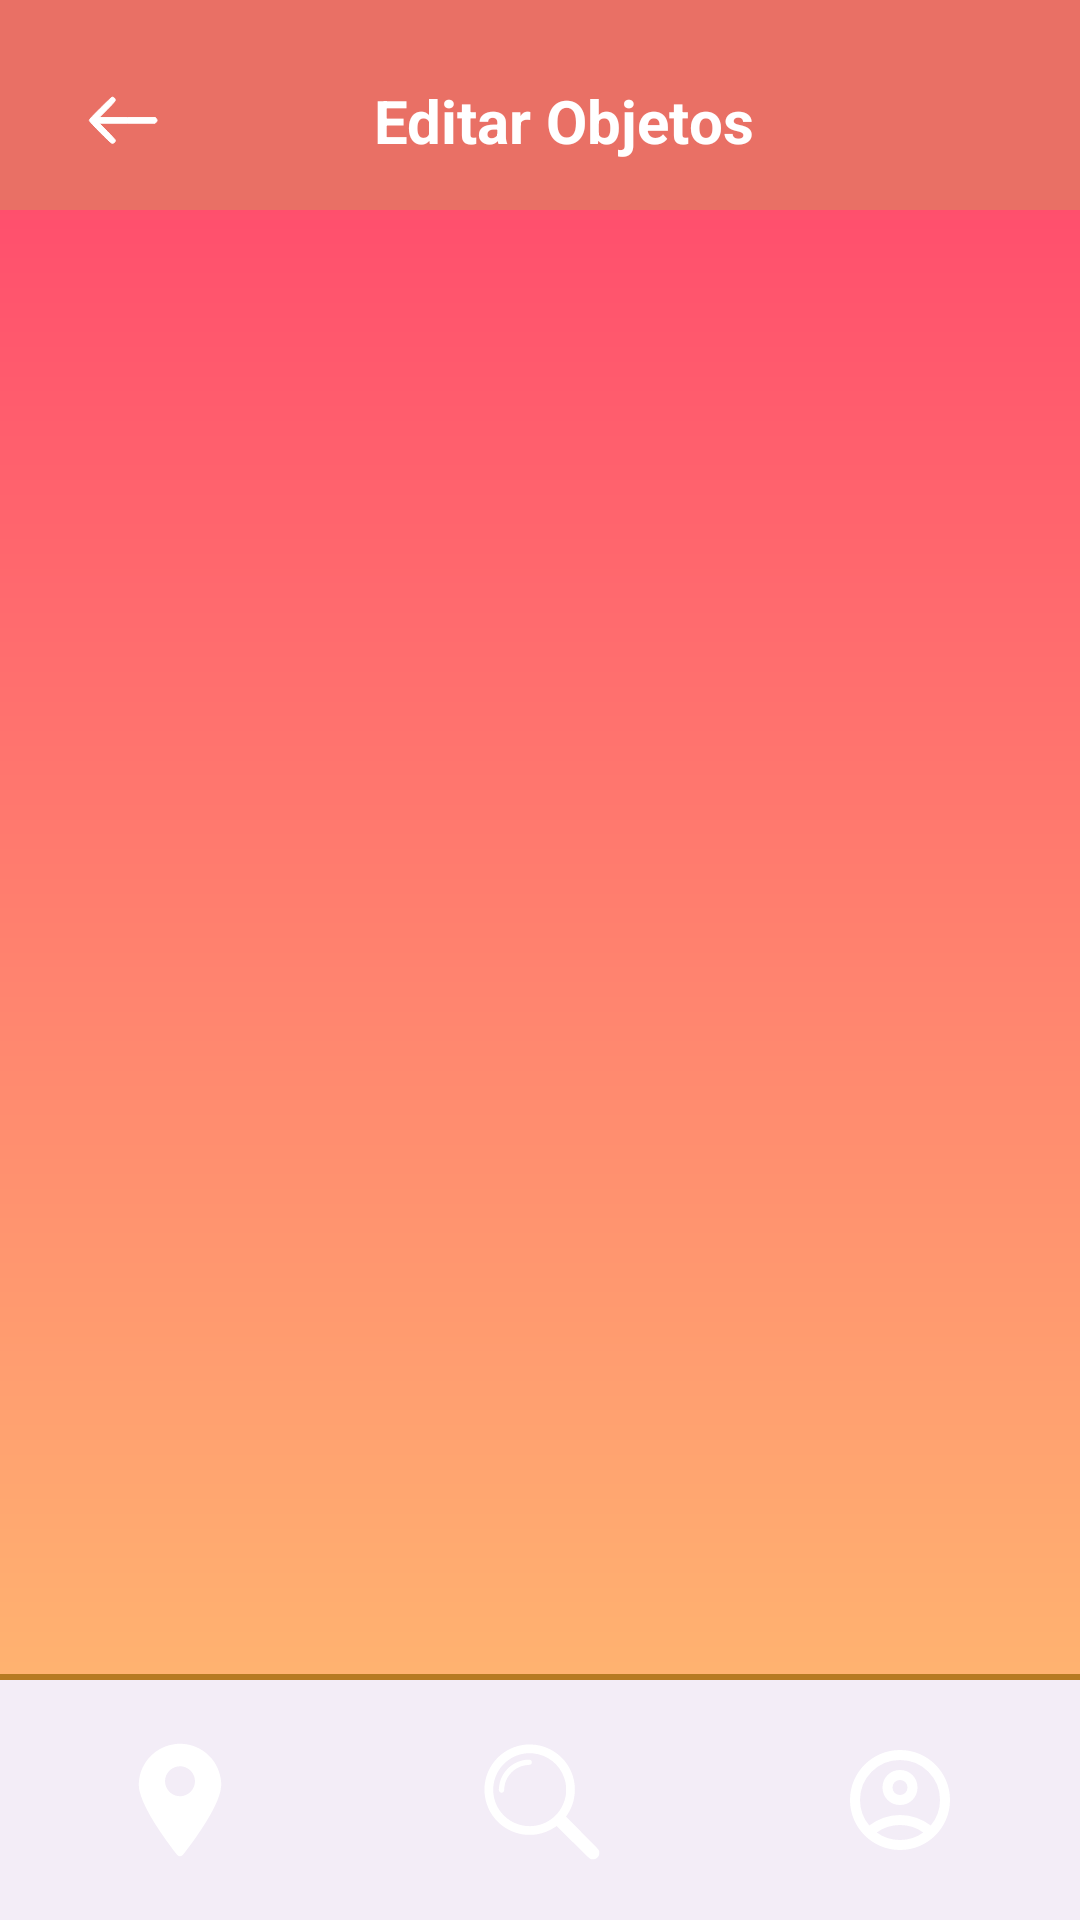

Where icons sit on this 1080px x 1920px app screen, as (x1, y1, x2, y2):
Tornar enrere: (89, 96, 158, 144)
